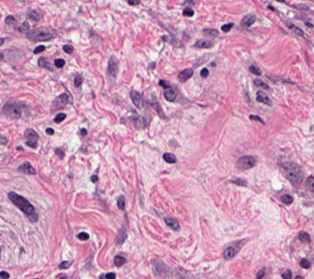nucleus: (8, 192, 37, 221), (26, 27, 55, 40), (2, 103, 21, 118), (236, 156, 255, 169), (24, 129, 37, 147), (53, 93, 69, 107), (130, 90, 142, 107), (18, 162, 35, 174), (107, 56, 117, 76), (256, 92, 271, 105), (178, 68, 192, 81), (131, 115, 145, 128), (165, 217, 179, 230), (38, 57, 51, 70), (164, 86, 176, 100), (117, 228, 126, 243), (223, 247, 235, 258), (194, 40, 212, 47), (254, 79, 268, 88), (114, 255, 125, 266), (249, 115, 264, 123), (163, 153, 175, 162), (231, 178, 246, 185), (250, 64, 260, 74), (54, 113, 65, 122), (117, 195, 124, 209), (74, 74, 82, 86), (99, 272, 115, 278), (54, 58, 64, 67), (33, 45, 44, 53), (77, 232, 88, 240), (63, 45, 73, 53), (159, 80, 169, 88), (59, 261, 70, 268), (200, 68, 208, 77), (256, 268, 264, 277), (0, 271, 9, 278), (46, 128, 53, 134), (91, 175, 97, 182), (1, 136, 6, 144), (81, 129, 86, 134)
